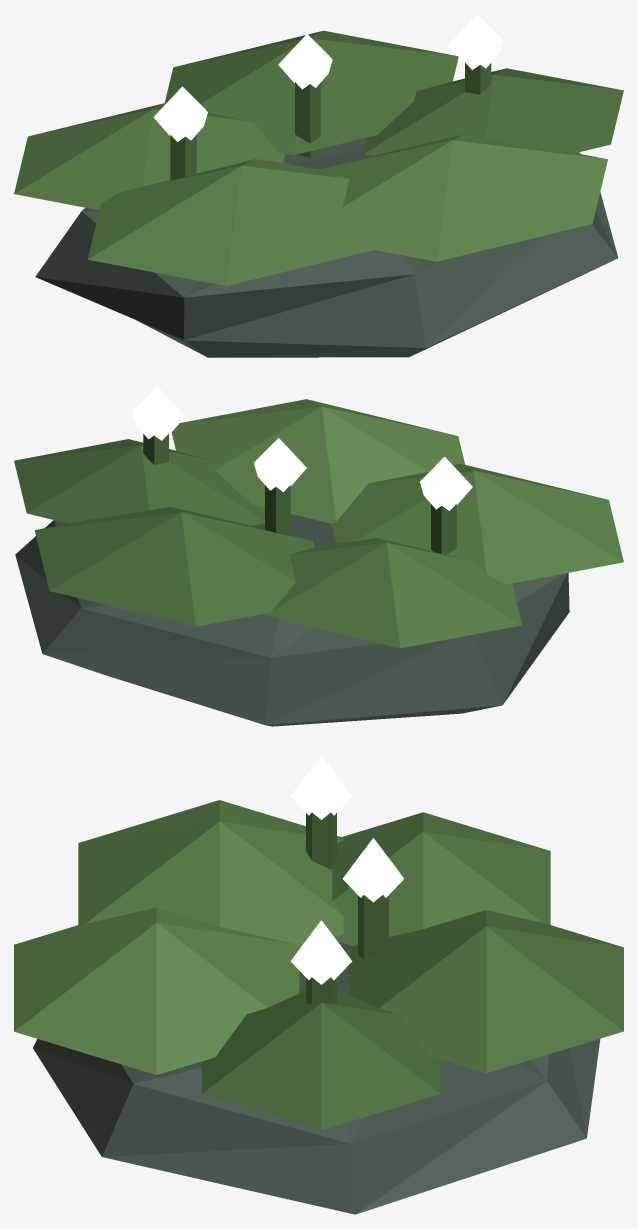
Rendered from moss_glow.glb.
The picture shows the model from 3 angles, top to bottom: view 1: azimuth 30°, elevation 25°; view 2: azimuth 150°, elevation 25°; view 3: azimuth 270°, elevation 25°; orthographic projection. The views are drawn at different scales.
Parts seen in each view (by area): view 1: geometry, glow-moss; view 2: geometry, glow-moss; view 3: geometry, glow-moss.
Part boxes in pixels (bbox=[...]): geometry: bbox=[14, 30, 623, 357]; glow-moss: bbox=[153, 14, 502, 141]; geometry: bbox=[14, 399, 623, 726]; glow-moss: bbox=[132, 386, 472, 510]; geometry: bbox=[14, 800, 623, 1214]; glow-moss: bbox=[290, 755, 403, 984].
Size of the model in its own units: 0.5673 by 0.21 by 0.4505.
